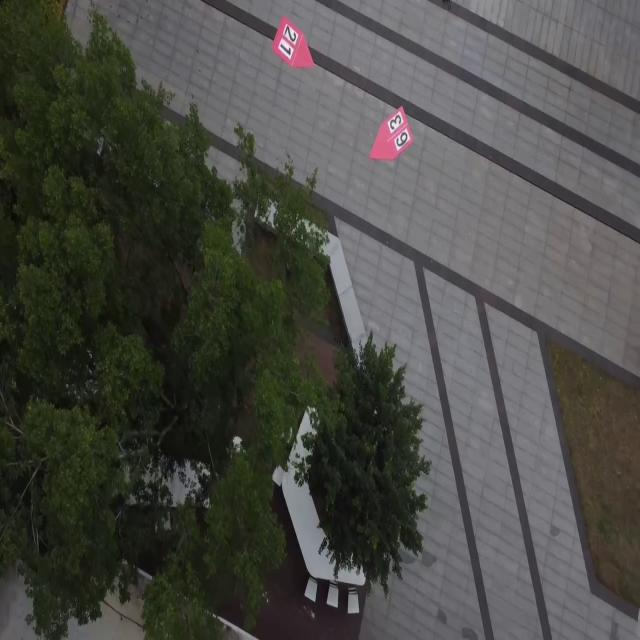-sign-: (368, 104, 414, 162), (271, 15, 315, 70)
